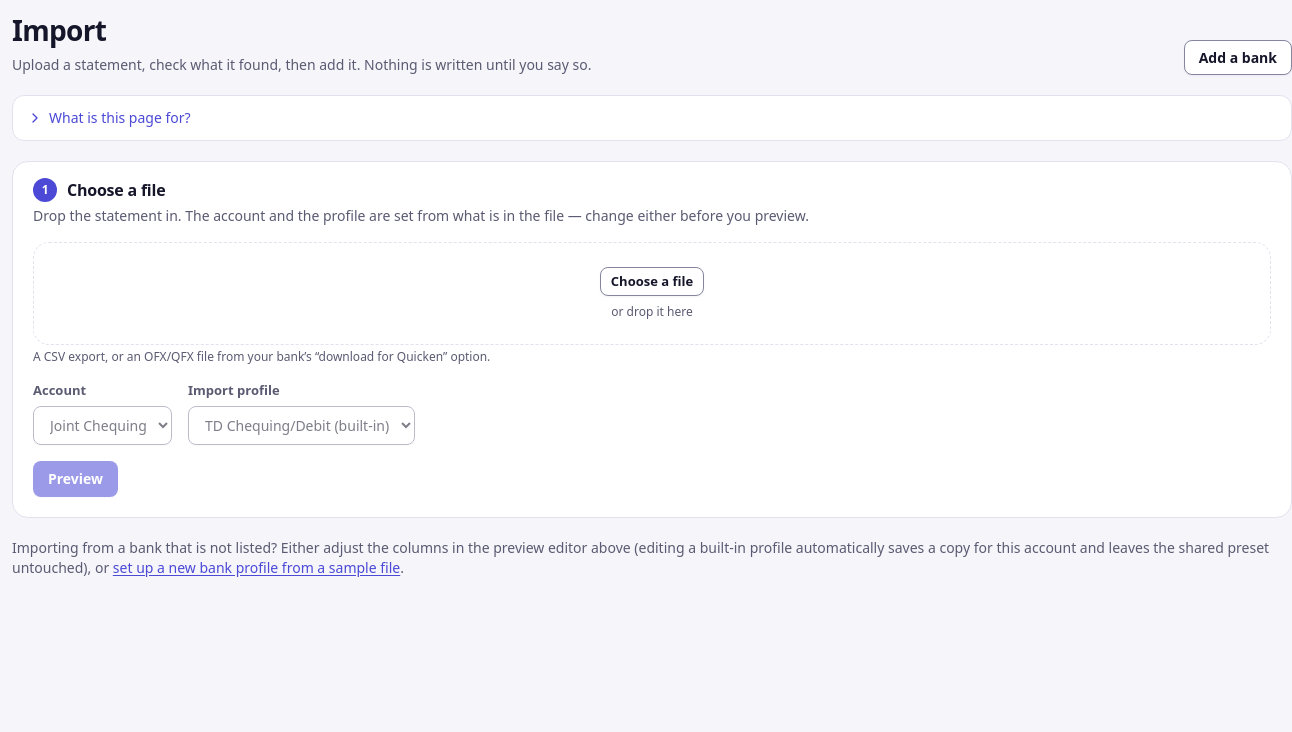
Test: ImportClient — the profile follows the account (I4) › switches to the account's remembered profile when the account changes
Expected: the dropdown labelled "Import profile" shows "TD Chequing/Debit (built-in)", [188,406,415,445]
Select "Joint Visa" in the dropdown labelled "Account": [102, 426] box [33,406,172,445]
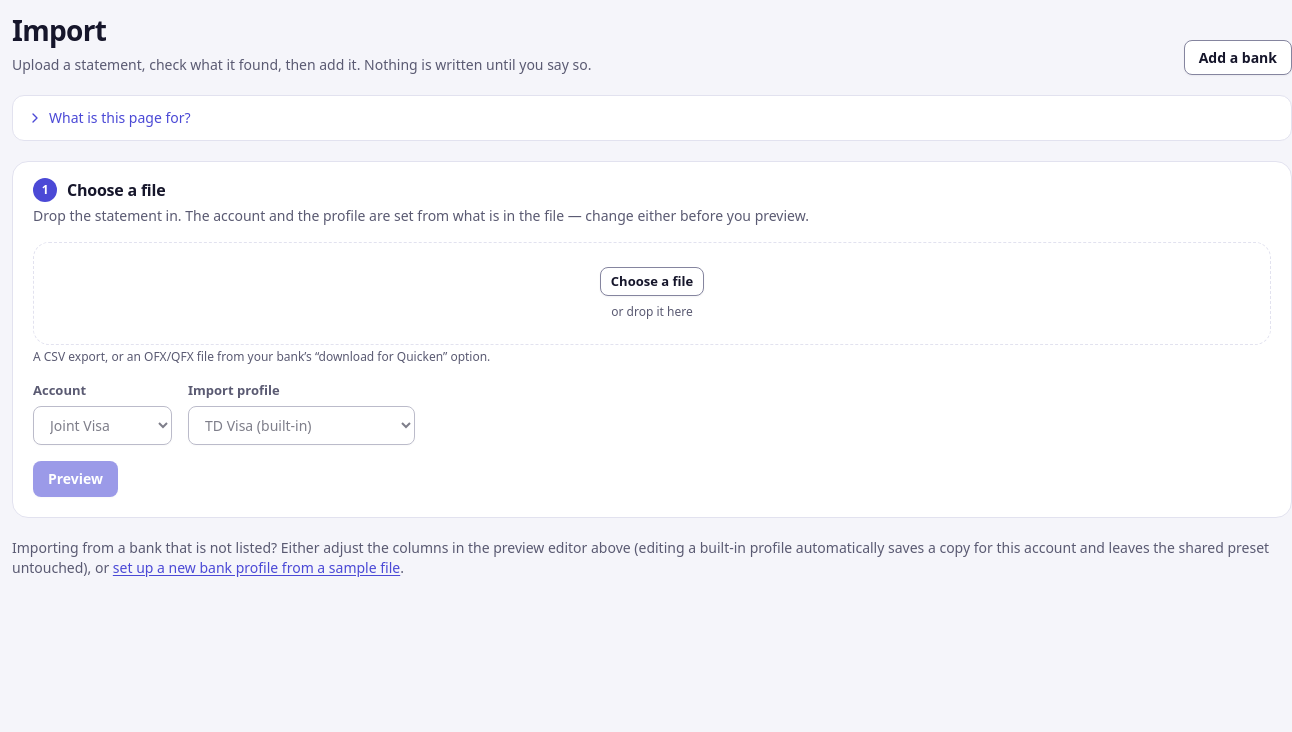
Expected: the dropdown labelled "Import profile" shows "TD Visa (built-in)", [188,406,415,445]
